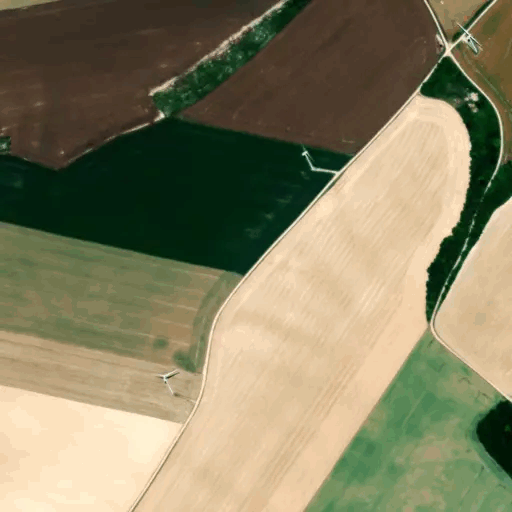wt: (148, 366, 184, 395), (456, 20, 483, 57), (296, 138, 318, 175)
